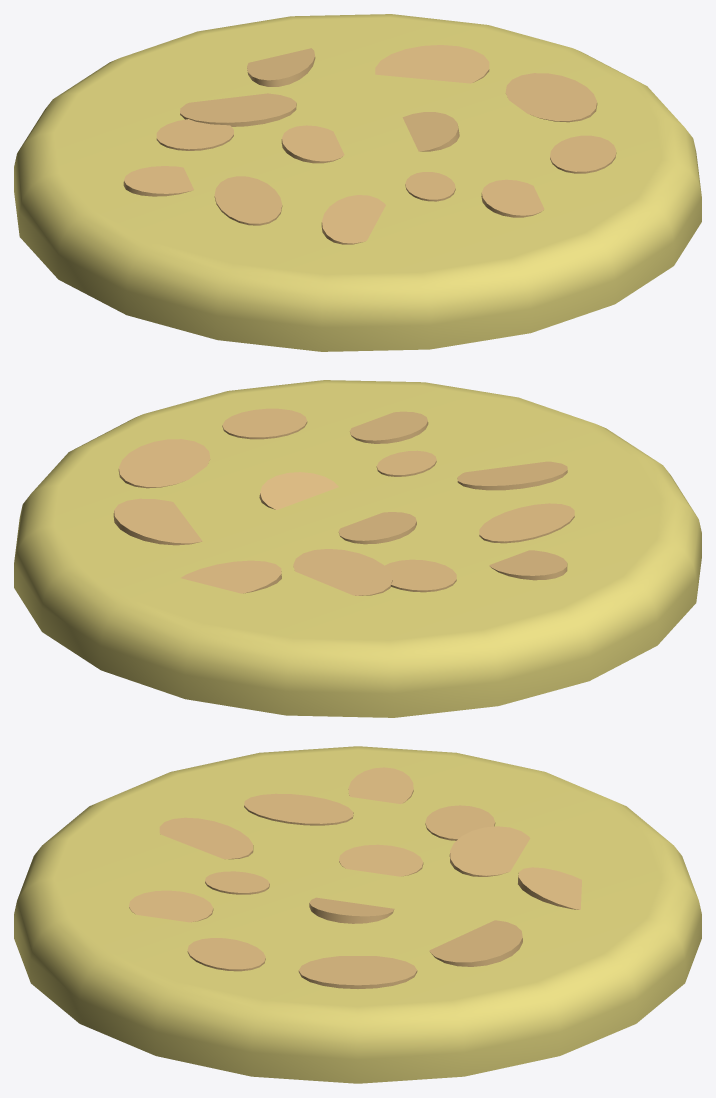
The model's file is raw_spanish_omelette.fbx.
3 renders of one model, top to bottom at view 1: azimuth 30°, elevation 25°; view 2: azimuth 150°, elevation 25°; view 3: azimuth 270°, elevation 25°, orthographic.
Parts seen in each view (by area): view 1: pCylinder1, pCylinder2, pCylinder6, pCylinder3, pCylinder8, pCylinder10, pCylinder13, pCylinder5, pCylinder4, pCylinder7, pCylinder11, pCylinder14 (+2 smaller); view 2: pCylinder1, pCylinder2, pCylinder3, pCylinder6, pCylinder8, pCylinder11, pCylinder10, pCylinder13, pCylinder12, pCylinder5, pCylinder4, pCylinder7 (+2 smaller); view 3: pCylinder1, pCylinder2, pCylinder3, pCylinder6, pCylinder8, pCylinder10, pCylinder4, pCylinder7, pCylinder13, pCylinder11, pCylinder14, pCylinder5 (+2 smaller).
Part boxes in pixels (x1=…): pCylinder1: x1=14, y1=14, x2=701, y2=351; pCylinder2: x1=505, y1=73, x2=597, y2=122; pCylinder6: x1=375, y1=45, x2=489, y2=83; pCylinder3: x1=180, y1=93, x2=296, y2=126; pCylinder8: x1=214, y1=176, x2=282, y2=225; pCylinder10: x1=321, y1=195, x2=385, y2=244; pCylinder13: x1=550, y1=135, x2=616, y2=173; pCylinder5: x1=156, y1=119, x2=233, y2=150; pCylinder4: x1=481, y1=179, x2=544, y2=217; pCylinder7: x1=281, y1=125, x2=344, y2=163; pCylinder11: x1=247, y1=48, x2=315, y2=86; pCylinder14: x1=123, y1=166, x2=193, y2=196; pCylinder1: x1=14, y1=380, x2=701, y2=717; pCylinder2: x1=118, y1=439, x2=210, y2=488; pCylinder3: x1=293, y1=549, x2=392, y2=595; pCylinder6: x1=113, y1=498, x2=202, y2=545; pCylinder8: x1=479, y1=503, x2=574, y2=543; pCylinder11: x1=181, y1=560, x2=281, y2=593; pCylinder10: x1=457, y1=461, x2=567, y2=490; pCylinder13: x1=222, y1=408, x2=307, y2=439; pCylinder12: x1=259, y1=472, x2=338, y2=509; pCylinder5: x1=385, y1=559, x2=456, y2=592; pCylinder4: x1=349, y1=411, x2=428, y2=443; pCylinder7: x1=338, y1=512, x2=416, y2=544; pCylinder1: x1=14, y1=746, x2=701, y2=1083; pCylinder2: x1=298, y1=956, x2=417, y2=988; pCylinder3: x1=449, y1=826, x2=530, y2=876; pCylinder6: x1=429, y1=920, x2=522, y2=966; pCylinder8: x1=244, y1=793, x2=353, y2=825; pCylinder10: x1=159, y1=817, x2=253, y2=859; pCylinder4: x1=129, y1=890, x2=213, y2=922; pCylinder7: x1=339, y1=844, x2=423, y2=876; pCylinder13: x1=187, y1=938, x2=265, y2=971; pCylinder11: x1=518, y1=867, x2=581, y2=909; pCylinder14: x1=348, y1=767, x2=413, y2=803; pCylinder5: x1=425, y1=805, x2=495, y2=840.
Bounding box in the file's own units: 2 × 0.2173 × 2.
